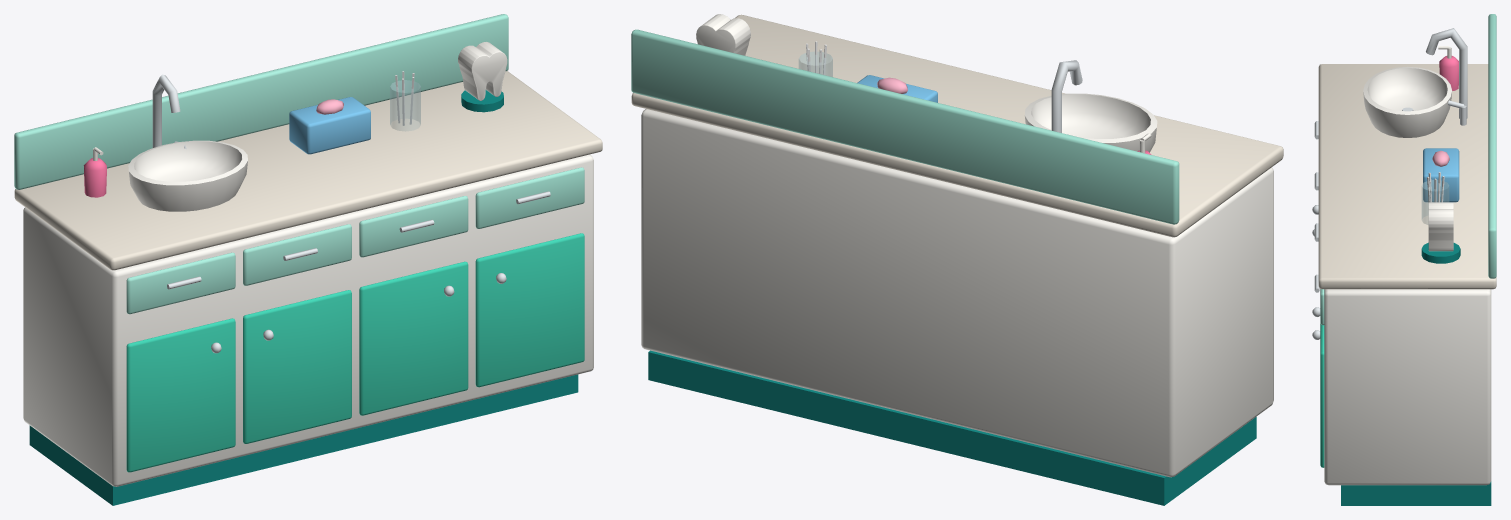
The model's file is op_counter.glb.
3 renders of one model, left to right at view 1: azimuth 30°, elevation 25°; view 2: azimuth 150°, elevation 25°; view 3: azimuth 270°, elevation 25°, orthographic. The views are drawn at different scales.
Visible parts, largest first — view 1: OpCounter; view 2: OpCounter; view 3: OpCounter.
Boxes of the visible parts, x1=… form: OpCounter: x1=14, y1=14, x2=602, y2=505; OpCounter: x1=631, y1=14, x2=1283, y2=505; OpCounter: x1=1312, y1=14, x2=1496, y2=505.
Bounding box in the file's own units: 1.84 × 1.28 × 0.663.
